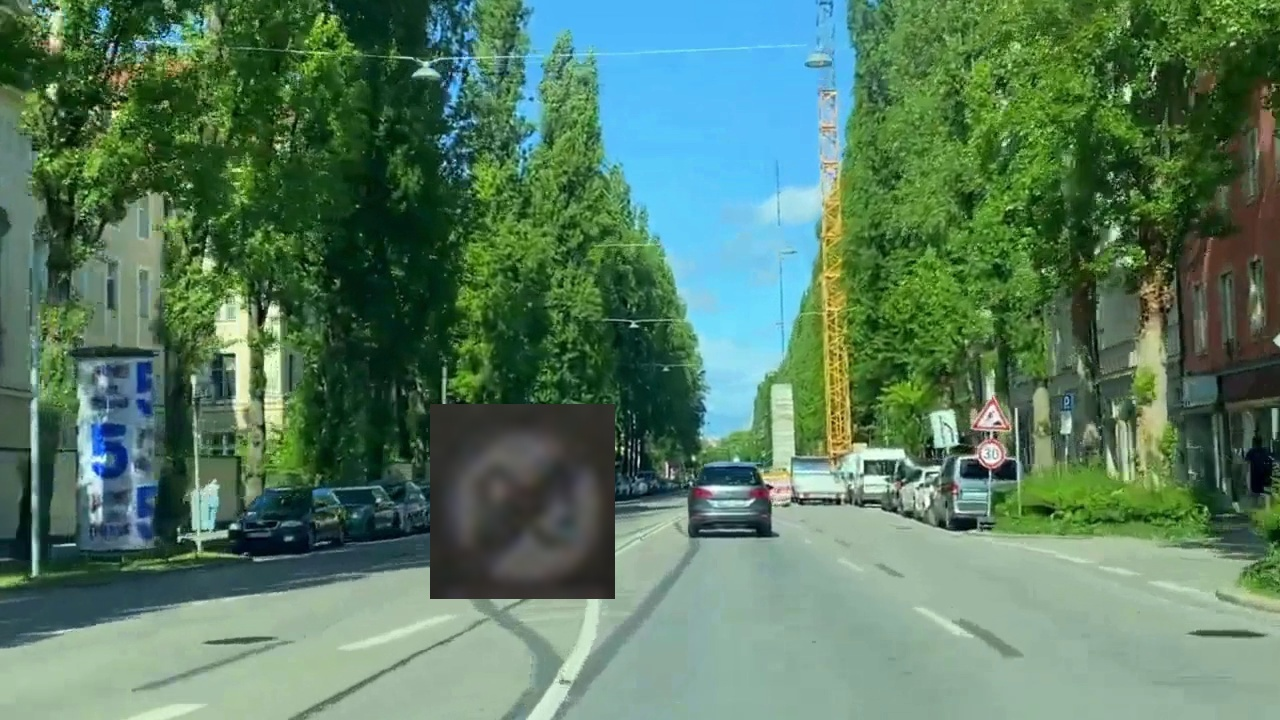End Speed 80: (430, 404, 615, 599)
